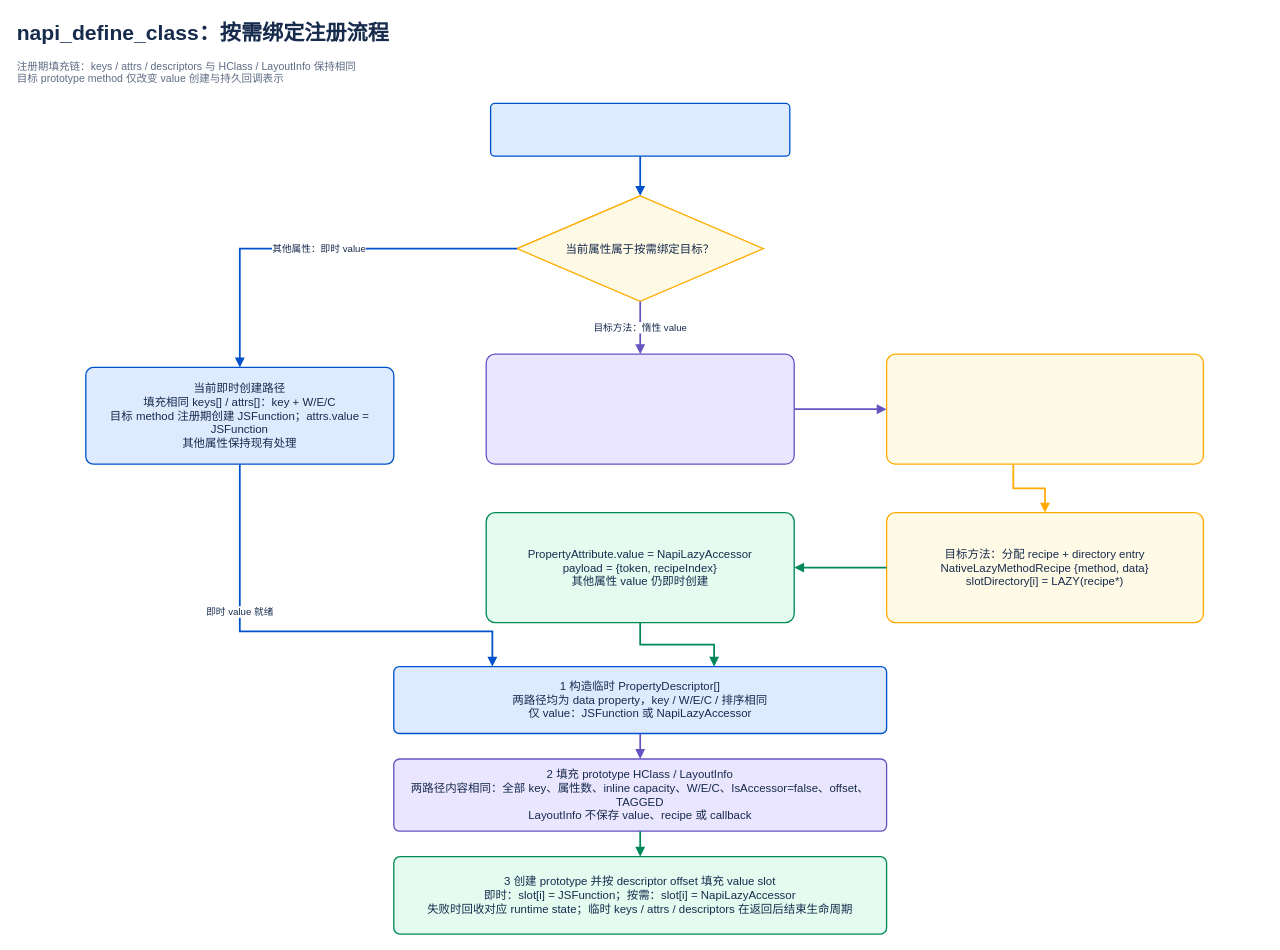
Image size: 1280x950. Some labels were removed from this diagram. Here are the shapes that lost their labels. From the top down, the box of each, then its label:
(490, 102, 790, 156): 遍历 properties[]，保持 static / prototype 顺序
(485, 353, 794, 464): 确保 ClassBindingLifetime 已创建 注册 token 与 environment cleanup 只复制 {method, data}
(886, 353, 1204, 464): 填充临时 keys[] / attrs[] String / Symbol key + W/E/C
